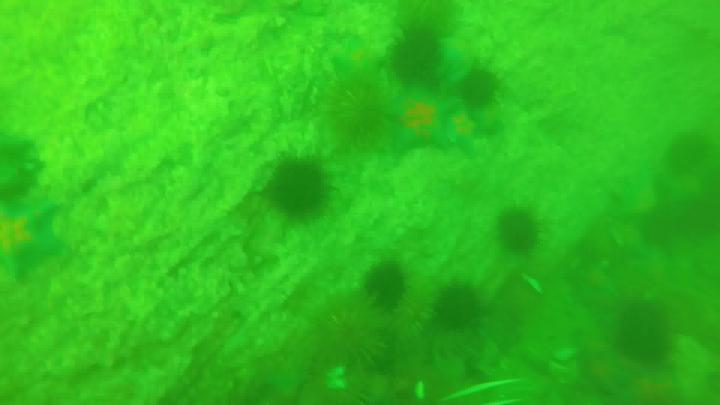echinus: (325, 310, 394, 377), (619, 297, 679, 365), (263, 158, 328, 217), (323, 76, 382, 137), (390, 30, 446, 93), (360, 262, 406, 313), (441, 285, 483, 330), (499, 208, 541, 251), (644, 205, 684, 248), (670, 129, 705, 173), (458, 72, 506, 104)
starfish: (1, 199, 63, 286), (382, 91, 460, 155)
